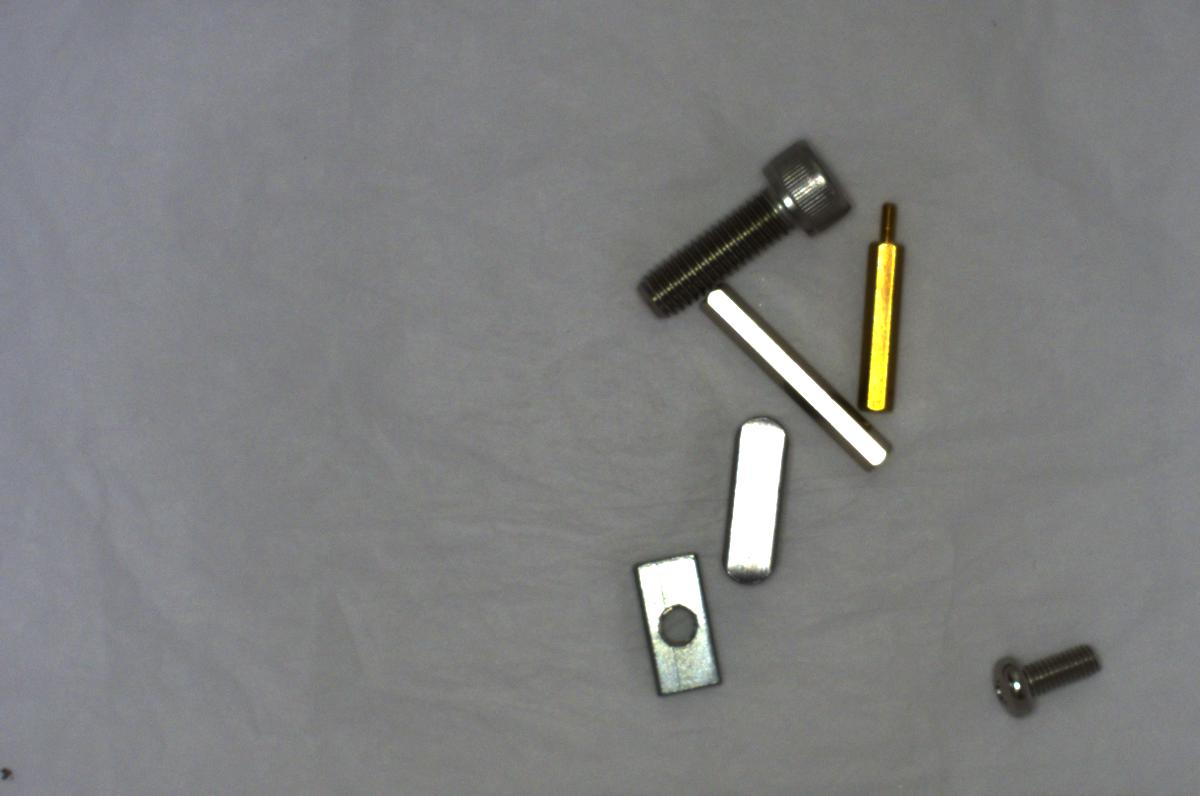Double hexagonal column: (692, 280, 897, 473)
Hexagon pillar: (850, 199, 908, 413)
Hexagon screw: (611, 131, 858, 328)
Keybar: (716, 406, 788, 594)
Rectangular nut: (621, 548, 725, 701)
Round head screw: (979, 623, 1117, 726)
